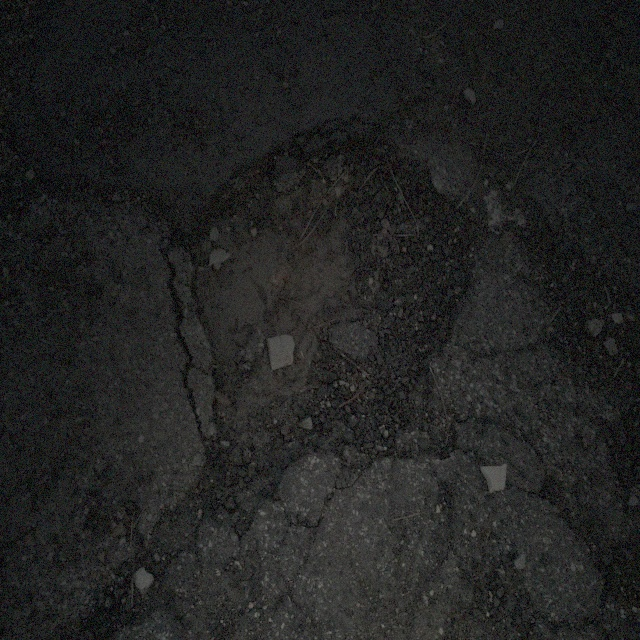pothole: (170, 111, 486, 511)
